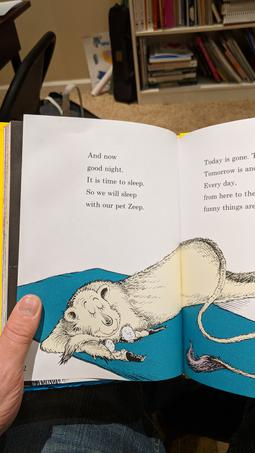text block: (74, 140, 150, 213), (197, 149, 255, 218)
